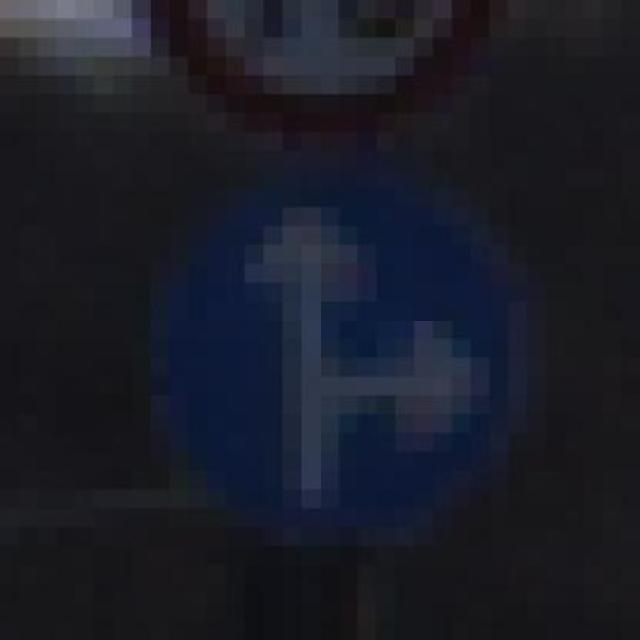Go Straight or Turn Right: (112, 150, 565, 584)
